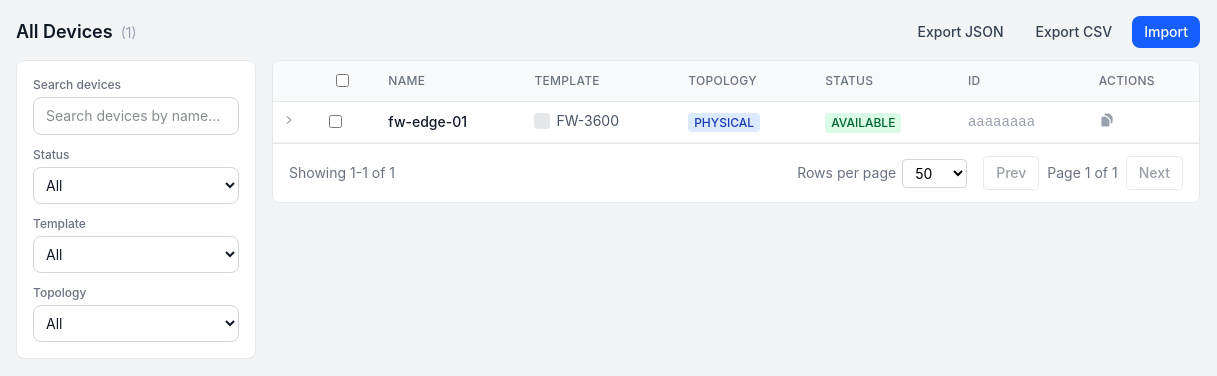
Scenario: InventoryPage › shows the bulk-action bar after an admin selects a device
Expected: the text "fw-edge-01" is shown, [372,102,518,142]
Expected: the text "Delete Selected" is not shown
Click the checkbox next to "fw-edge-01": (336,122) [329,115,342,128]
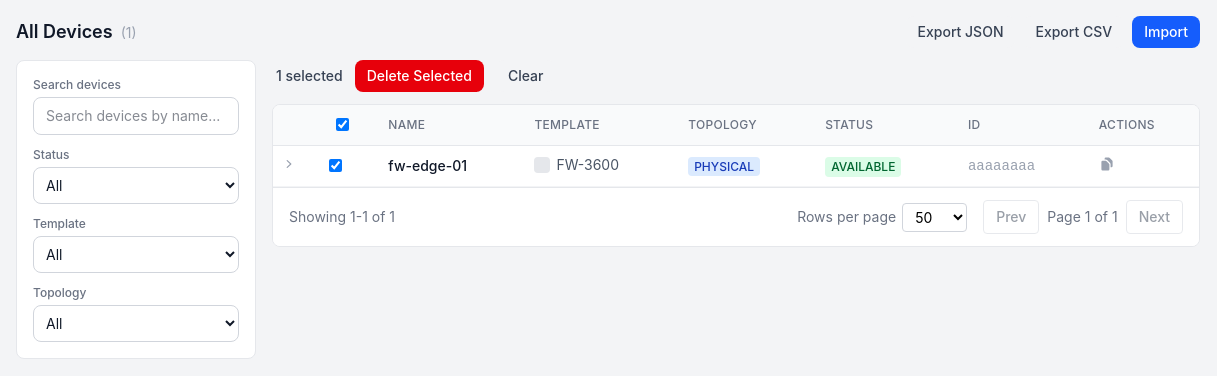
Expected: the text "1 selected" is shown, [276,66,343,86]
Expected: the button "Delete Selected" is shown, [355,60,484,92]
